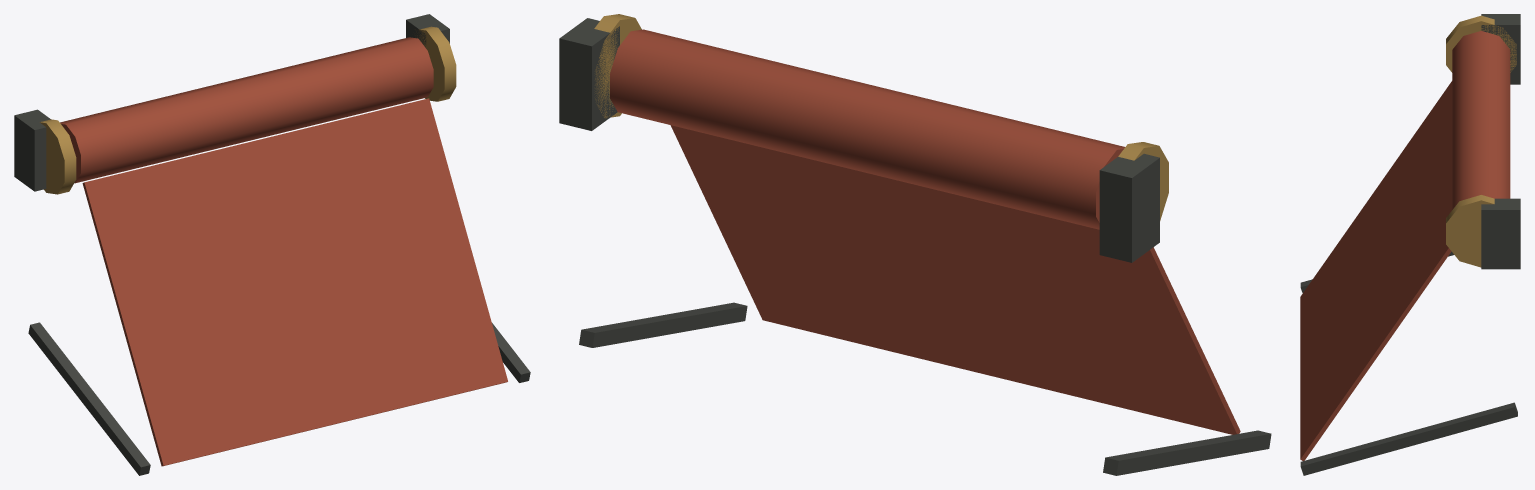
Rendered from canvas_roll.glb.
3 renders of one model, left to right at view 1: azimuth 30°, elevation 25°; view 2: azimuth 150°, elevation 25°; view 3: azimuth 270°, elevation 25°, orthographic. The views are drawn at different scales.
Visible parts, largest first — view 1: canvas_roll; view 2: canvas_roll; view 3: canvas_roll.
Part boxes in pixels (<box>): canvas_roll: <box>14,14,530,475</box>; canvas_roll: <box>559,14,1271,475</box>; canvas_roll: <box>1300,14,1520,475</box>.
Size of the model in its own units: 2.12 by 1.39 by 1.01.
